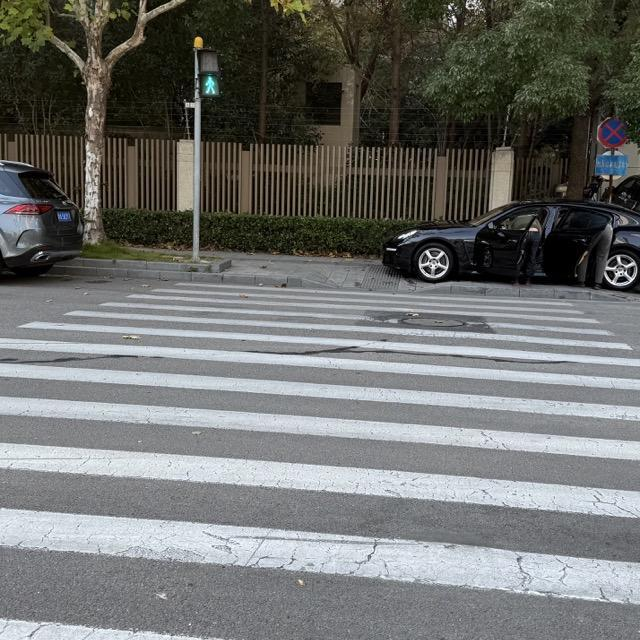curb: (56, 267, 332, 288), (407, 284, 639, 301), (61, 258, 231, 273)
